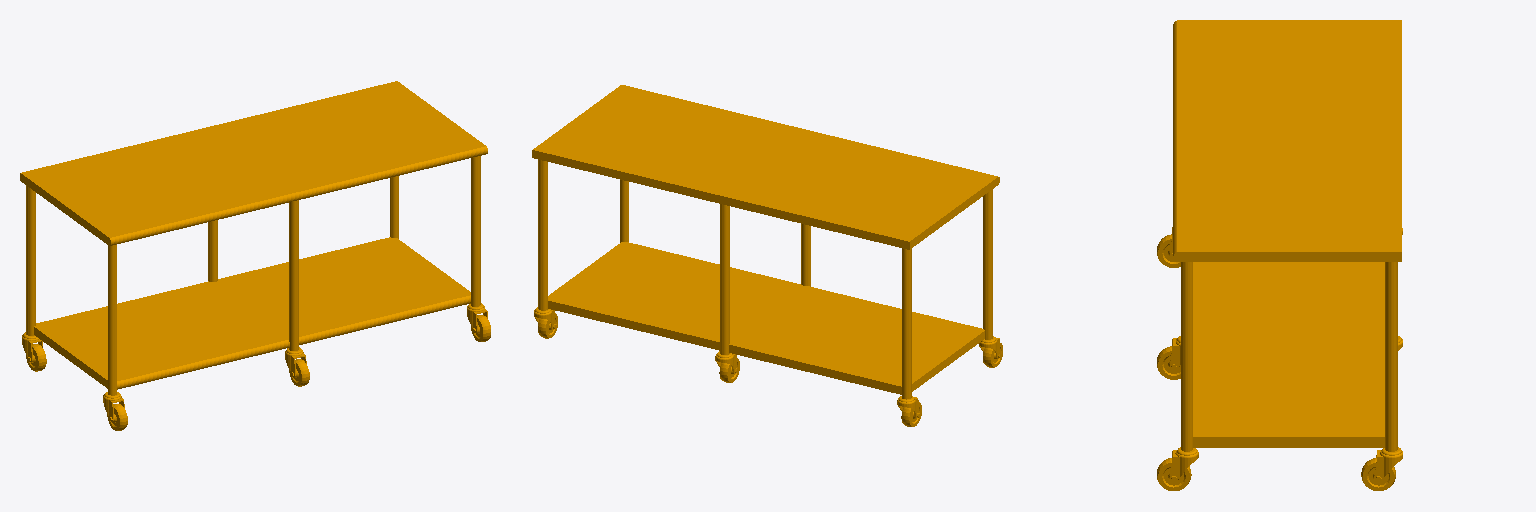
The robot description file, URDF, robot "steelTable1":
<robot
  name="steelTable1">
  <link name="steelTable1">
    <inertial>
      <origin xyz="0.0 0.0 0.0" rpy="0 0 0"/>
      <mass value="5.0"/>
      <inertia ixx="1" ixy="0.0" ixz="0.0" iyy="1" iyz="0.0" izz="1" />
    </inertial>

    <visual>
      <geometry>
        <mesh filename="../meshes/dae/steelTable1.dae" scale="1 1 1" />
      </geometry>
     </visual>

    <collision>
      <geometry>
        <mesh filename="../meshes/dae/steelTable1.dae" scale="1 1 1" />
      </geometry>
    </collision>

  </link>
</robot>

--- Render facts (derived) ---
3 views of the same robot in one strip: view 1: azimuth 30°, elevation 25°; view 2: azimuth 150°, elevation 25°; view 3: azimuth 270°, elevation 25° (orthographic).
Model steelTable1 with 1 links and 0 joints (none), rooted at steelTable1, posed every joint at zero.
Links seen in each view (by area): view 1: steelTable1; view 2: steelTable1; view 3: steelTable1.
Boxes of the visible links, left/top/right/bottom form: steelTable1: left=20, top=81, right=490, bottom=430; steelTable1: left=532, top=85, right=1002, bottom=426; steelTable1: left=1157, top=20, right=1402, bottom=490.
Bounding box of the posed robot: 1.84 × 0.8244 × 0.8932 m (x, y, z).
1 mesh visuals loaded from 1 distinct referenced files (1 Collada DAE).